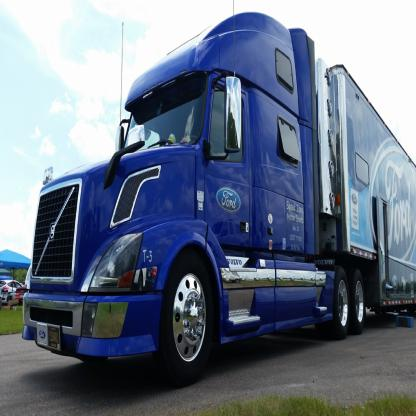Truck: (23, 0, 415, 384)
